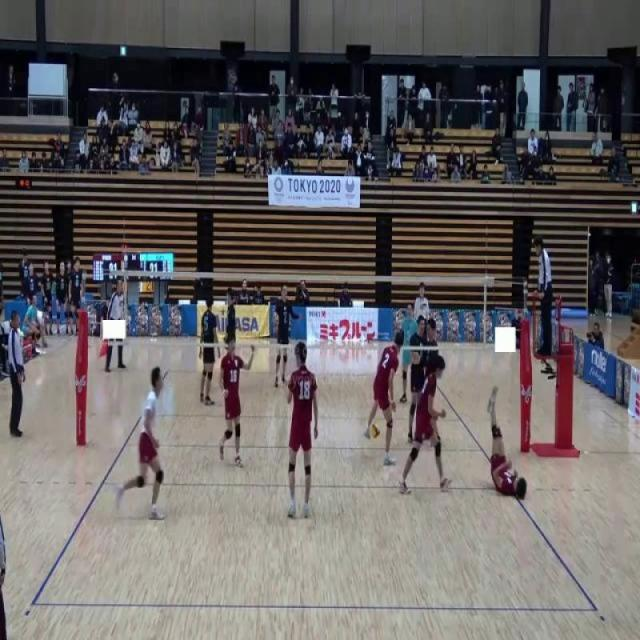volleyball: (370, 423, 381, 440)
